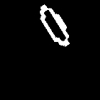chain: (40, 5, 68, 45)
